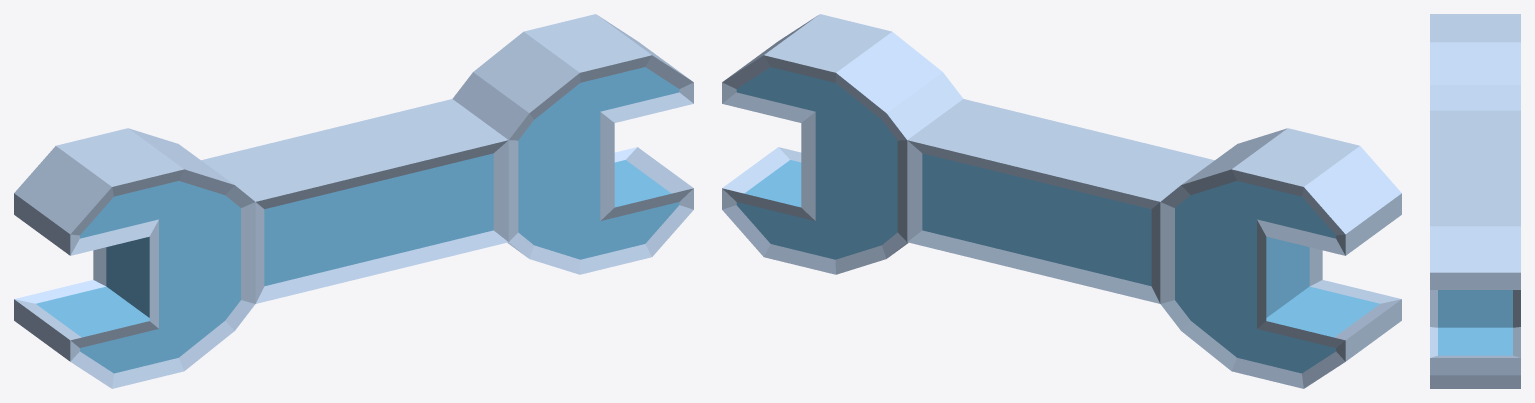
File: Wrench.fbx
3 renders of one model, left to right at view 1: azimuth 30°, elevation 25°; view 2: azimuth 150°, elevation 25°; view 3: azimuth 270°, elevation 25°, orthographic. The views are drawn at different scales.
Parts seen in each view (by area): view 1: Cube.007; view 2: Cube.007; view 3: Cube.007.
Boxes of the visible parts, left/top/right/bottom form: Cube.007: left=14, top=14, right=693, bottom=388; Cube.007: left=722, top=14, right=1401, bottom=388; Cube.007: left=1430, top=14, right=1520, bottom=388.
Bounding box in the file's own units: 1278 × 396 × 200.
